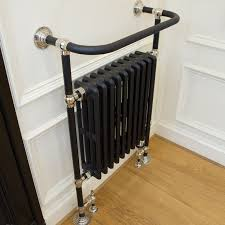Radiator: (71, 51, 156, 179)
